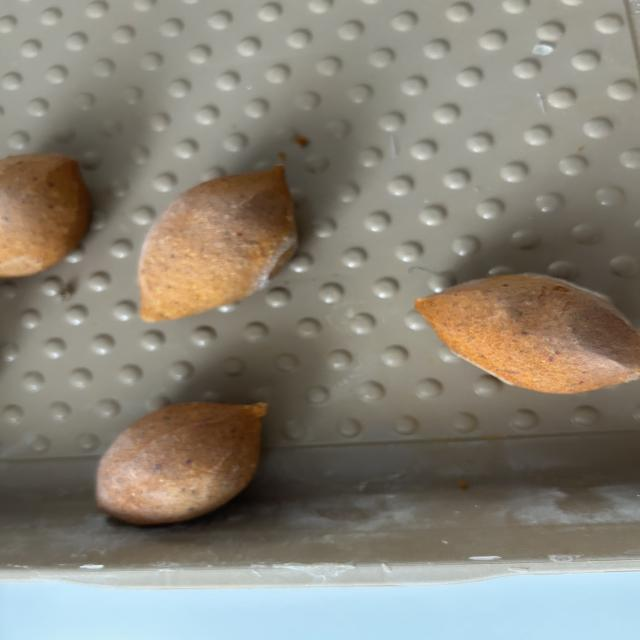kobi: (402, 269, 628, 393), (134, 164, 296, 322), (94, 400, 268, 525), (0, 152, 92, 278)
